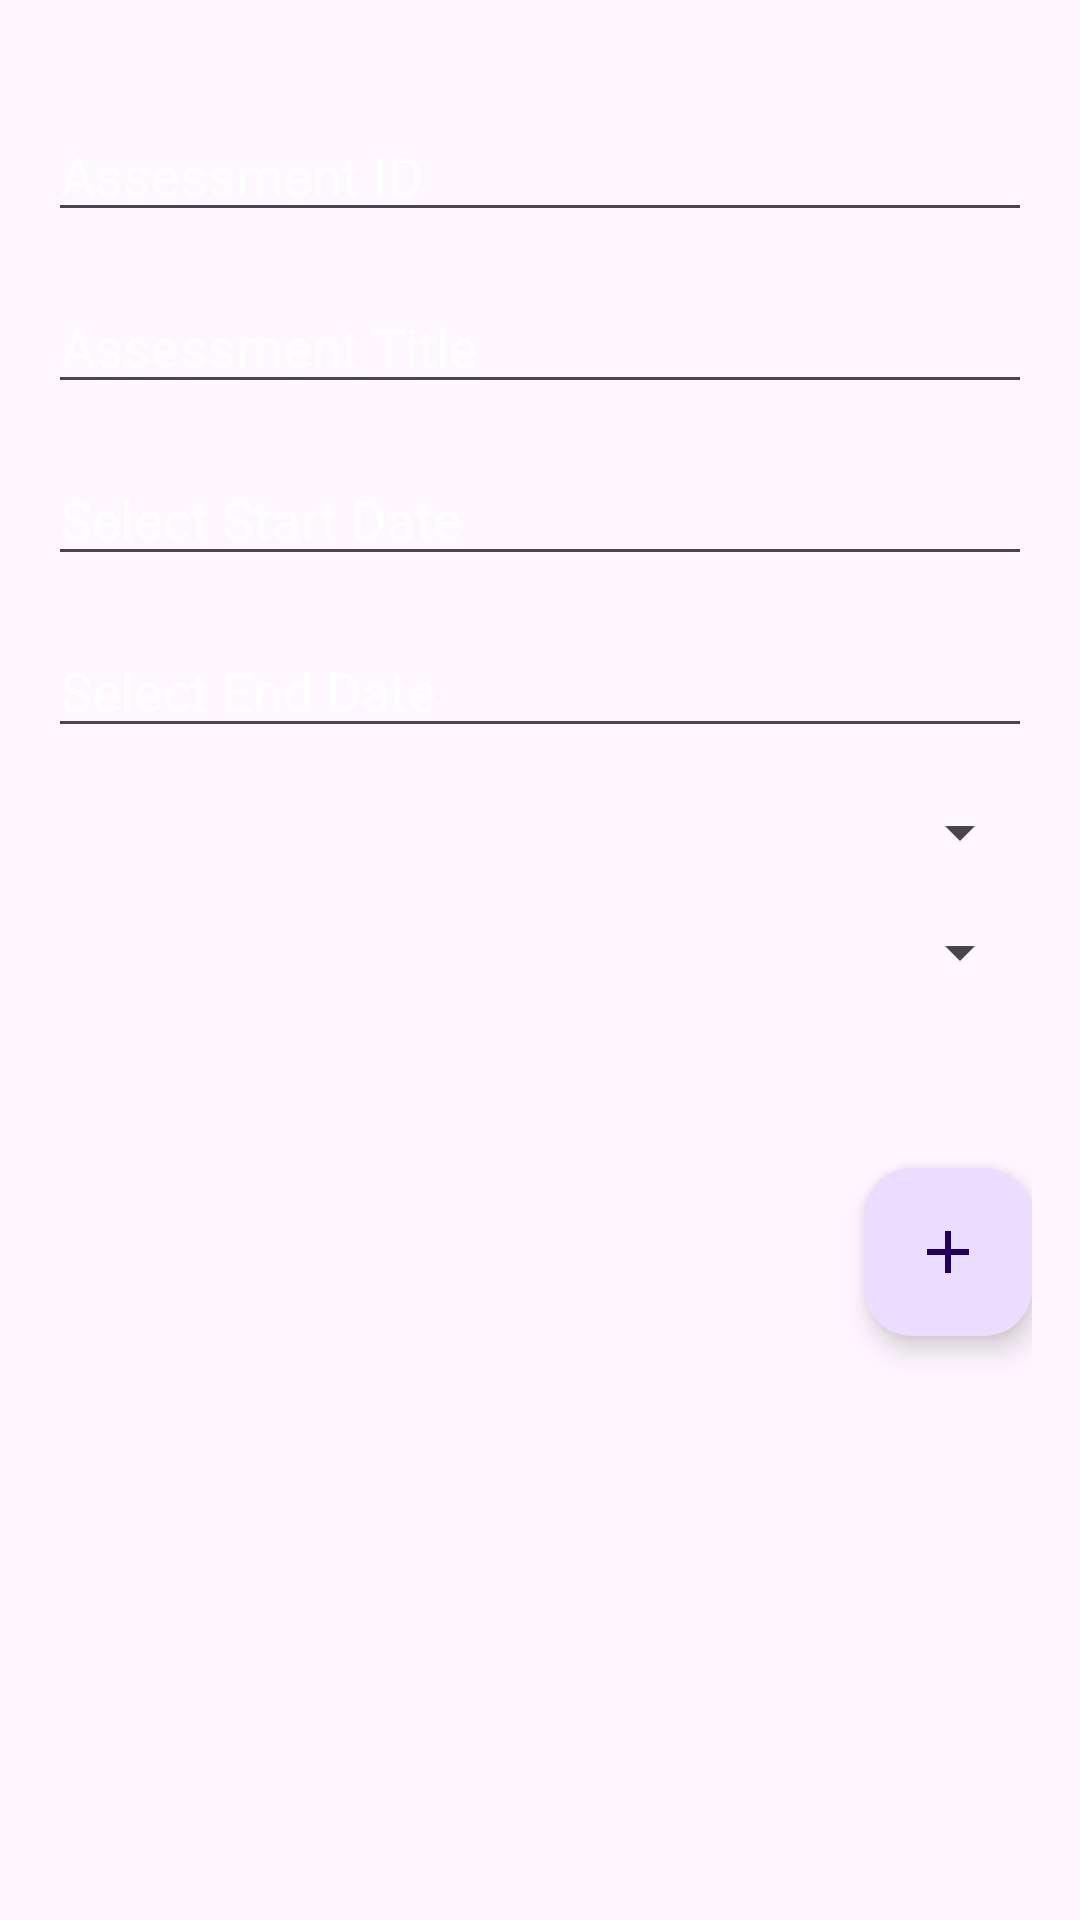

Screen size 1080 × 1920. Icon name, then its center in pixels as point (x, y):
add: point (948, 1252)
